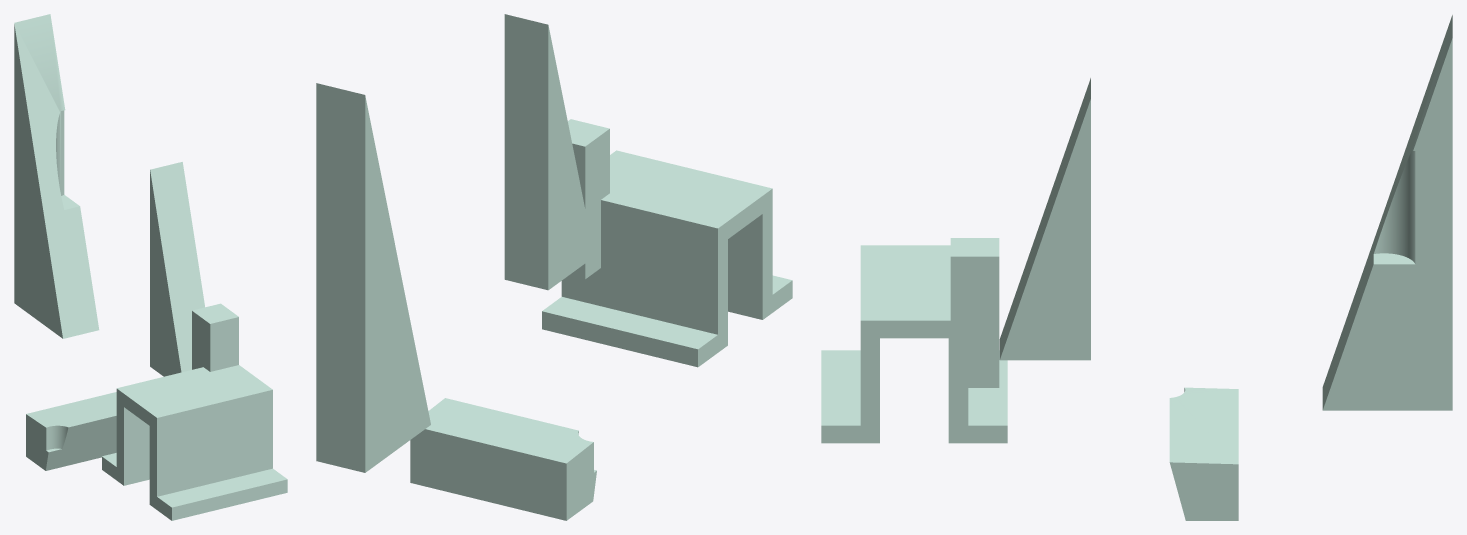
3 views of the same model, side by side, from view 1: azimuth 30°, elevation 25°; view 2: azimuth 150°, elevation 25°; view 3: azimuth 270°, elevation 25° (orthographic). The views are drawn at different scales.
Visible parts, largest first — view 1: Renderer Node; view 2: Renderer Node; view 3: Renderer Node.
Part boxes in pixels (x1=…): Renderer Node: x1=14, y1=14, x2=287, y2=520; Renderer Node: x1=316, y1=14, x2=792, y2=520; Renderer Node: x1=821, y1=15, x2=1452, y2=520.
Size of the model in its own units: 0.5469 by 1.48 by 1.77.
